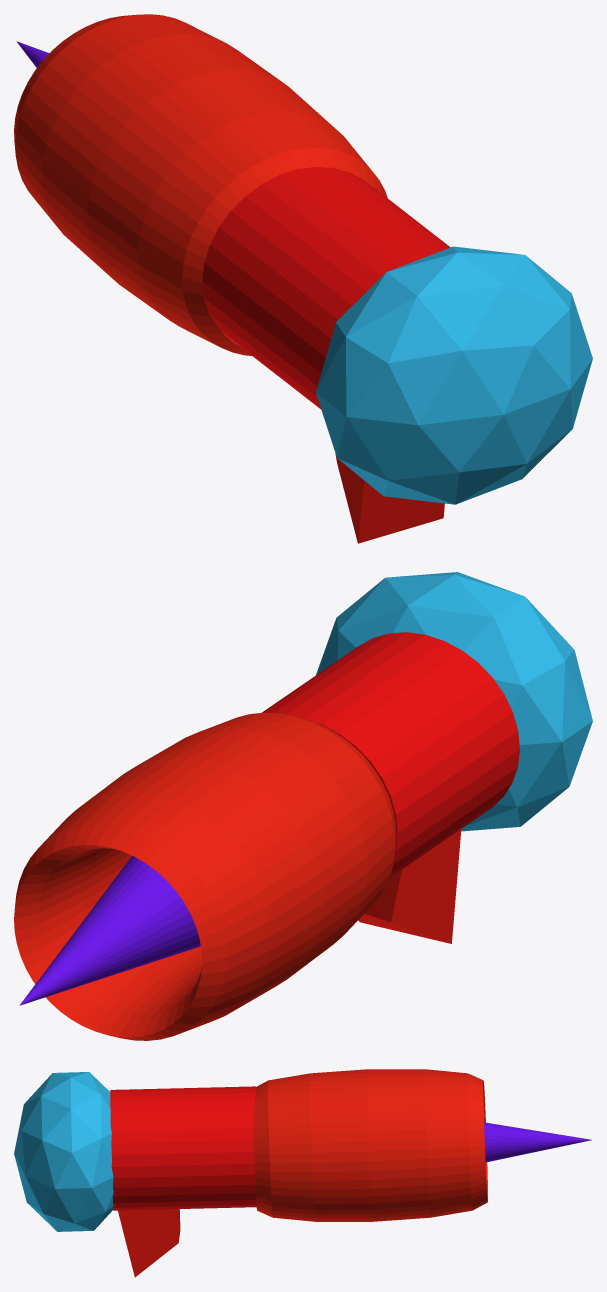
Rendered from arma.glb.
3 renders of one model, top to bottom at view 1: azimuth 30°, elevation 25°; view 2: azimuth 150°, elevation 25°; view 3: azimuth 270°, elevation 25°, orthographic. The views are drawn at different scales.
Parts seen in each view (by area): view 1: Cone; view 2: Cone; view 3: Cone.
Part boxes in pixels (x1,y1,x2,y2): Cone: [14, 14, 592, 543]; Cone: [14, 572, 592, 1040]; Cone: [14, 1069, 591, 1277].
Bounding box in the file's own units: 0.9605 × 1.18 × 3.26.
